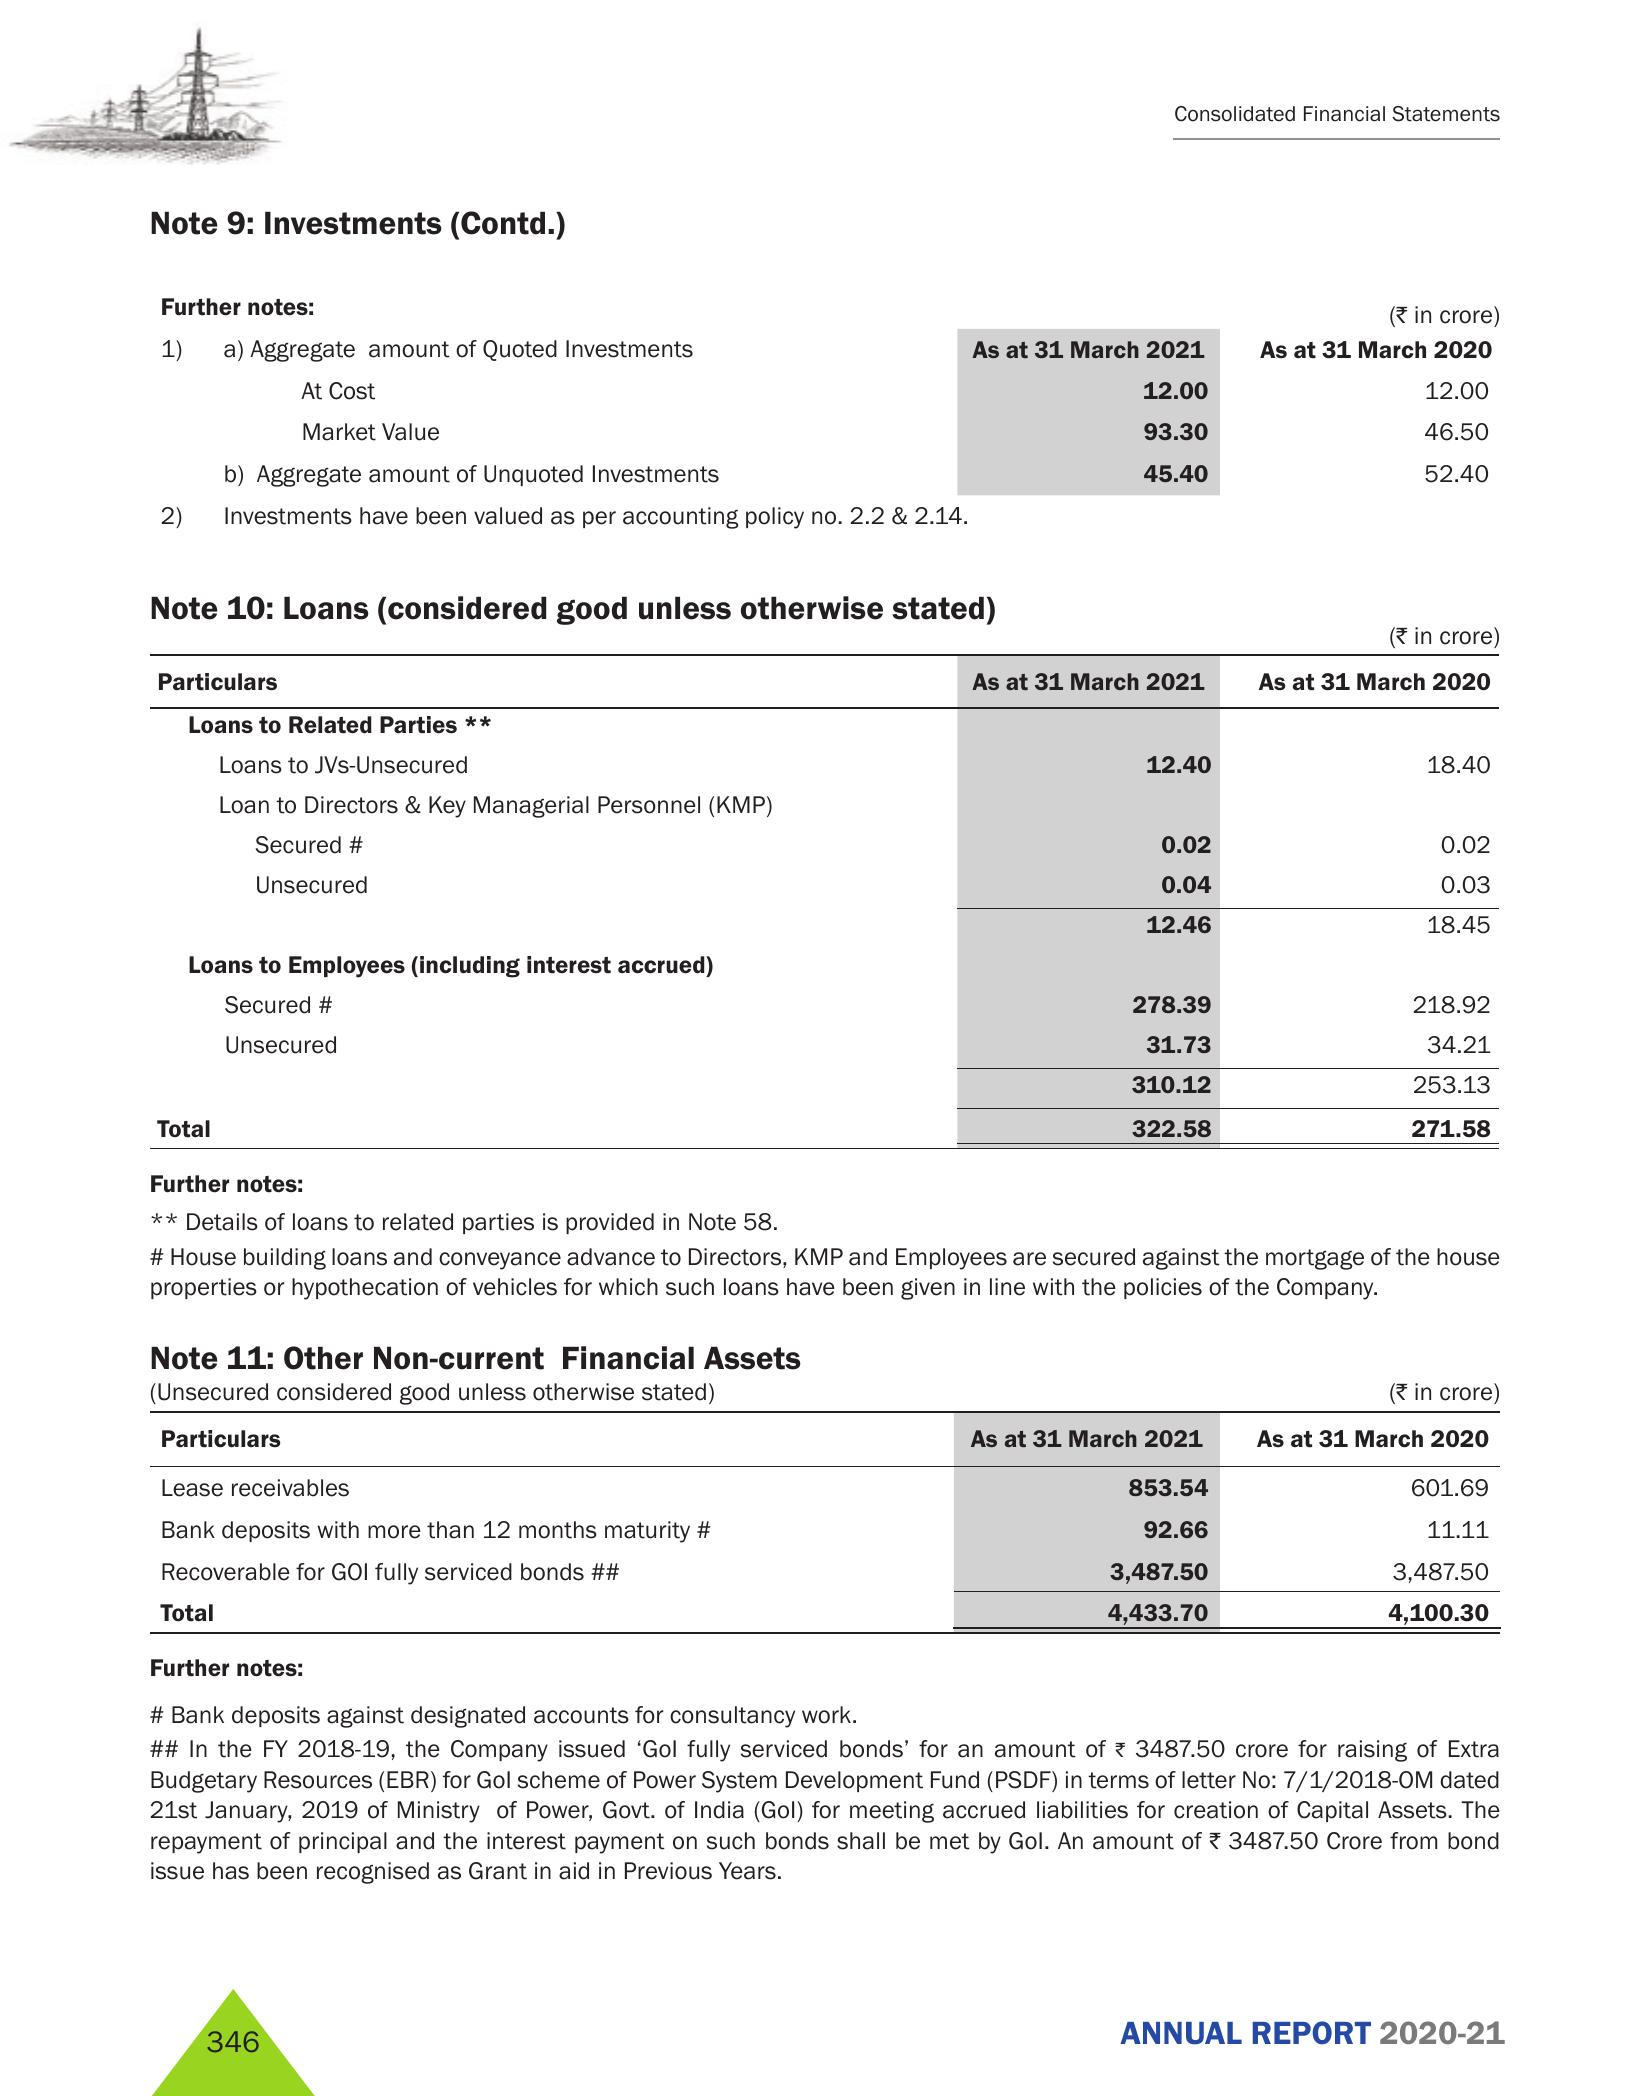Footer: (12, 1953, 1650, 2096)
Header: (0, 0, 1650, 180)
Table: (126, 650, 1516, 1152), (129, 1410, 1511, 1638), (126, 323, 1516, 490)
